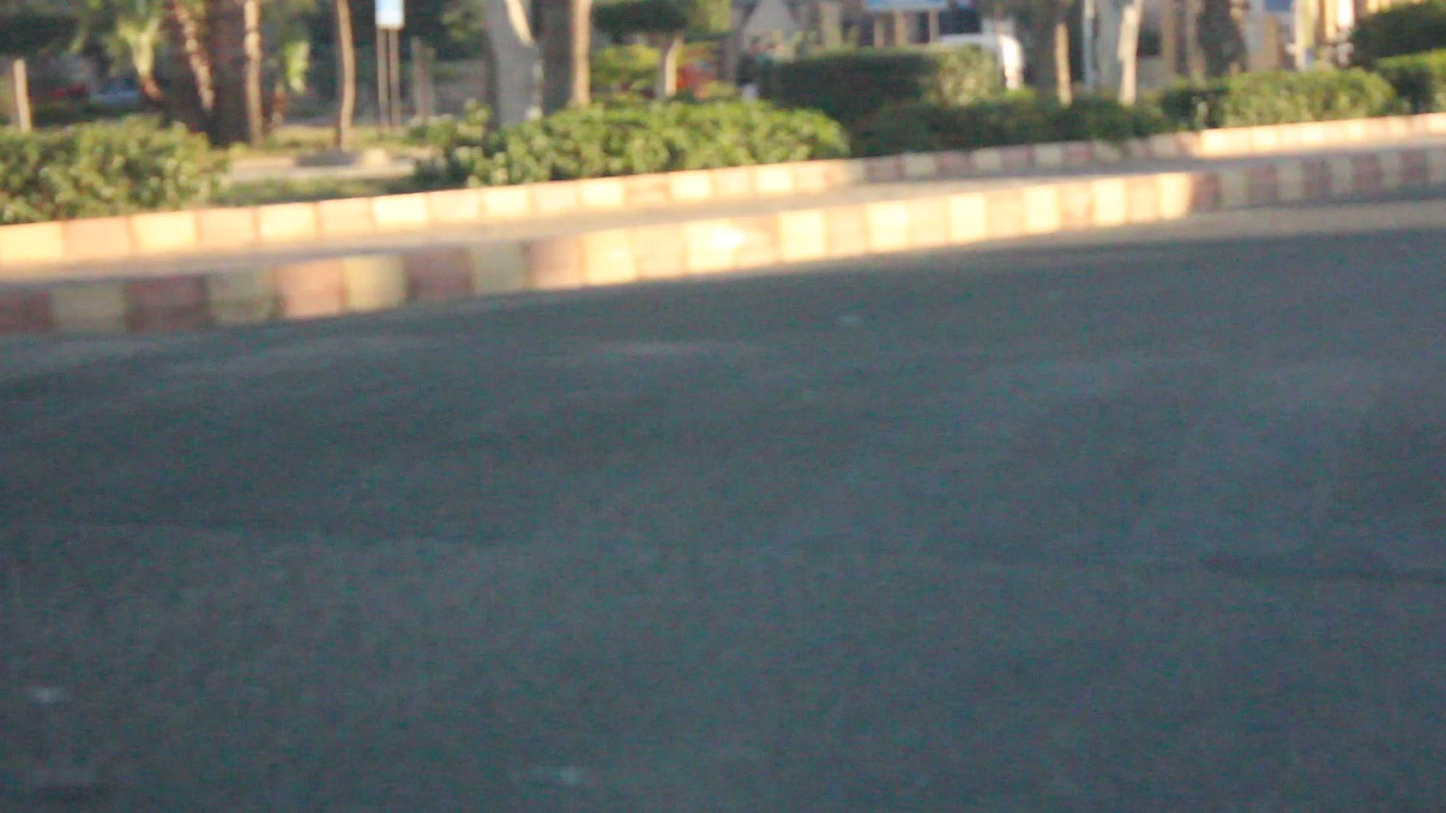Bump: (30, 312, 1446, 580)
